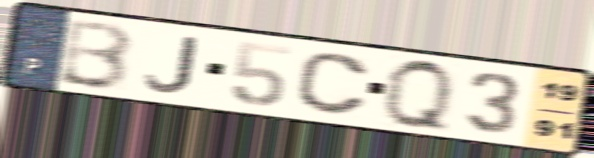3: (460, 71, 526, 136)
5: (228, 38, 294, 108)
B: (54, 17, 137, 92)
C: (293, 50, 373, 118)
J: (142, 35, 200, 95)
Q: (382, 55, 456, 137)
